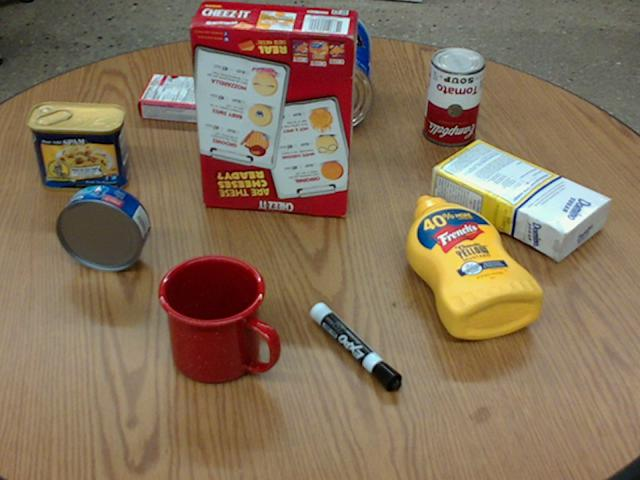cracker_box: (189, 0, 356, 214)
gelatin_box: (137, 75, 216, 123)
large_marker: (308, 302, 400, 390)
master_chef_can: (289, 9, 371, 130)
mug: (157, 254, 280, 383)
mustard_bottle: (404, 195, 542, 338)
potted_meat_can: (26, 103, 128, 192)
sugar_box: (428, 142, 610, 257)
tomato_soup_can: (420, 46, 482, 144)
tuna_fish_can: (56, 183, 149, 271)
